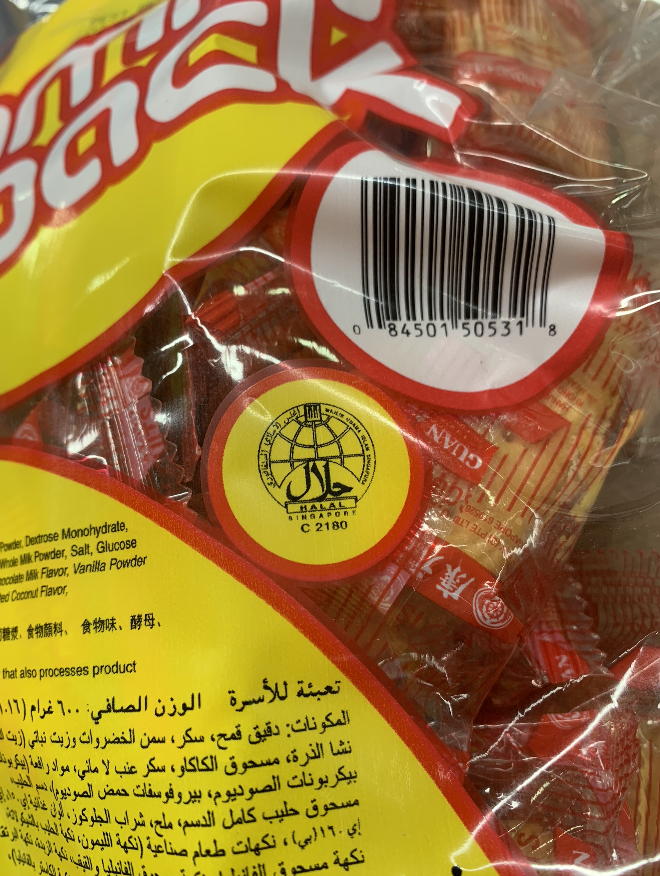halal: (258, 411, 374, 516)
